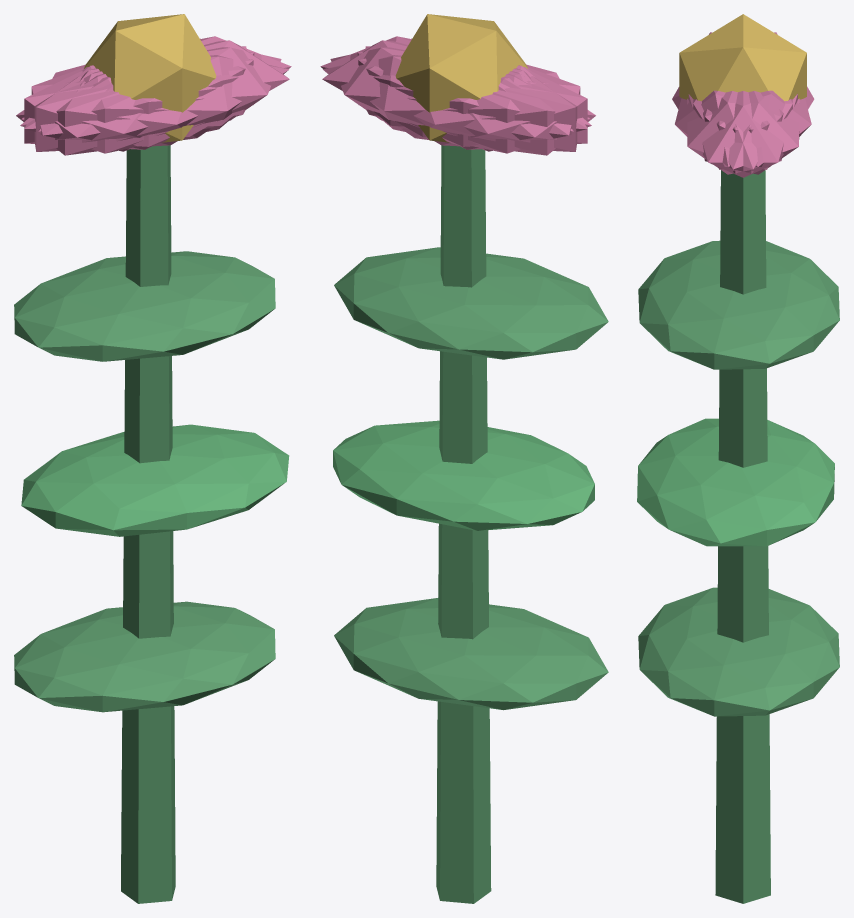
Rendered from emilia-sonchifolia.glb.
3 renders of one model, left to right at view 1: azimuth 30°, elevation 25°; view 2: azimuth 150°, elevation 25°; view 3: azimuth 270°, elevation 25°, orthographic.
Visible parts, largest first — view 1: stem, leaf1, leaf2, leaf0, center, petal1, petal6, petal2, petal5, petal7, petal0, petal4 (+2 smaller); view 2: stem, leaf2, leaf0, leaf1, center, petal8, petal3, petal7, petal4, petal2, petal0, petal5 (+2 smaller); view 3: stem, leaf2, leaf1, leaf0, center, petal0, petal4, petal5, petal1, petal8.
Part boxes in pixels (<box>): stem: <box>121,145,175,903</box>; leaf1: <box>21,424,289,536</box>; leaf2: <box>14,251,275,361</box>; leaf0: <box>14,601,275,712</box>; center: <box>84,14,216,142</box>; petal1: <box>20,55,288,153</box>; petal6: <box>16,67,210,155</box>; petal2: <box>34,46,246,151</box>; petal5: <box>38,47,281,146</box>; petal7: <box>24,52,254,149</box>; petal0: <box>83,40,289,137</box>; petal4: <box>21,36,291,129</box>; stem: <box>436,145,491,903</box>; leaf2: <box>334,247,608,359</box>; leaf0: <box>334,598,608,710</box>; leaf1: <box>333,420,594,530</box>; center: <box>395,14,528,142</box>; petal8: <box>323,55,591,153</box>; petal3: <box>401,67,595,155</box>; petal7: <box>365,46,577,151</box>; petal4: <box>330,47,573,146</box>; petal2: <box>357,52,587,149</box>; petal0: <box>322,40,528,137</box>; petal5: <box>320,36,590,129</box>; stem: <box>715,170,770,903</box>; leaf2: <box>638,240,839,369</box>; leaf1: <box>637,418,834,546</box>; leaf0: <box>638,587,839,716</box>; center: <box>679,14,806,101</box>; petal0: <box>688,91,797,177</box>; petal4: <box>693,91,799,174</box>; petal5: <box>687,91,792,174</box>; petal1: <box>675,90,783,166</box>; petal8: <box>703,90,811,166</box>.
Bounding box in the file's own units: 0.1458 × 0.4561 × 0.0974.
